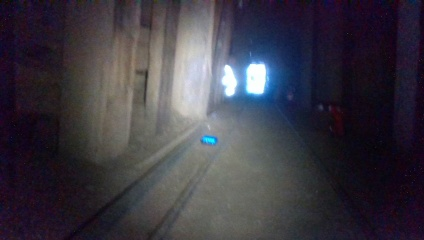drill: (314, 103, 343, 138)
fire_extinguisher: (281, 83, 293, 114)
manikin: (220, 54, 245, 107)
